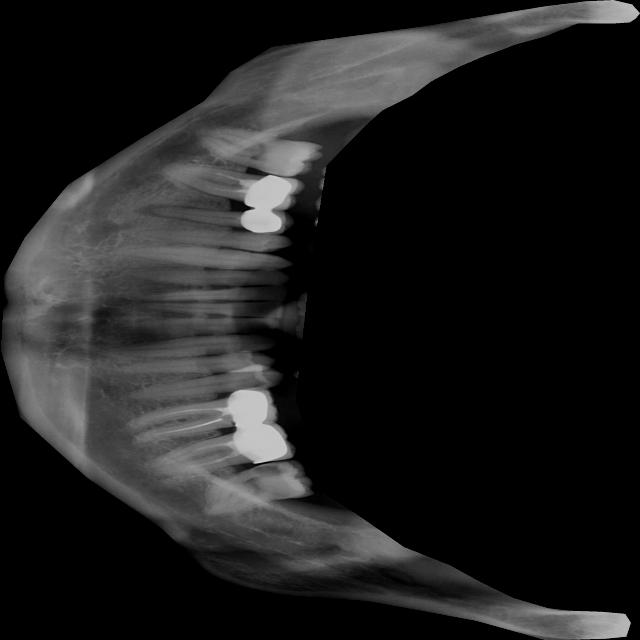mandibula: (0, 0, 639, 640)
